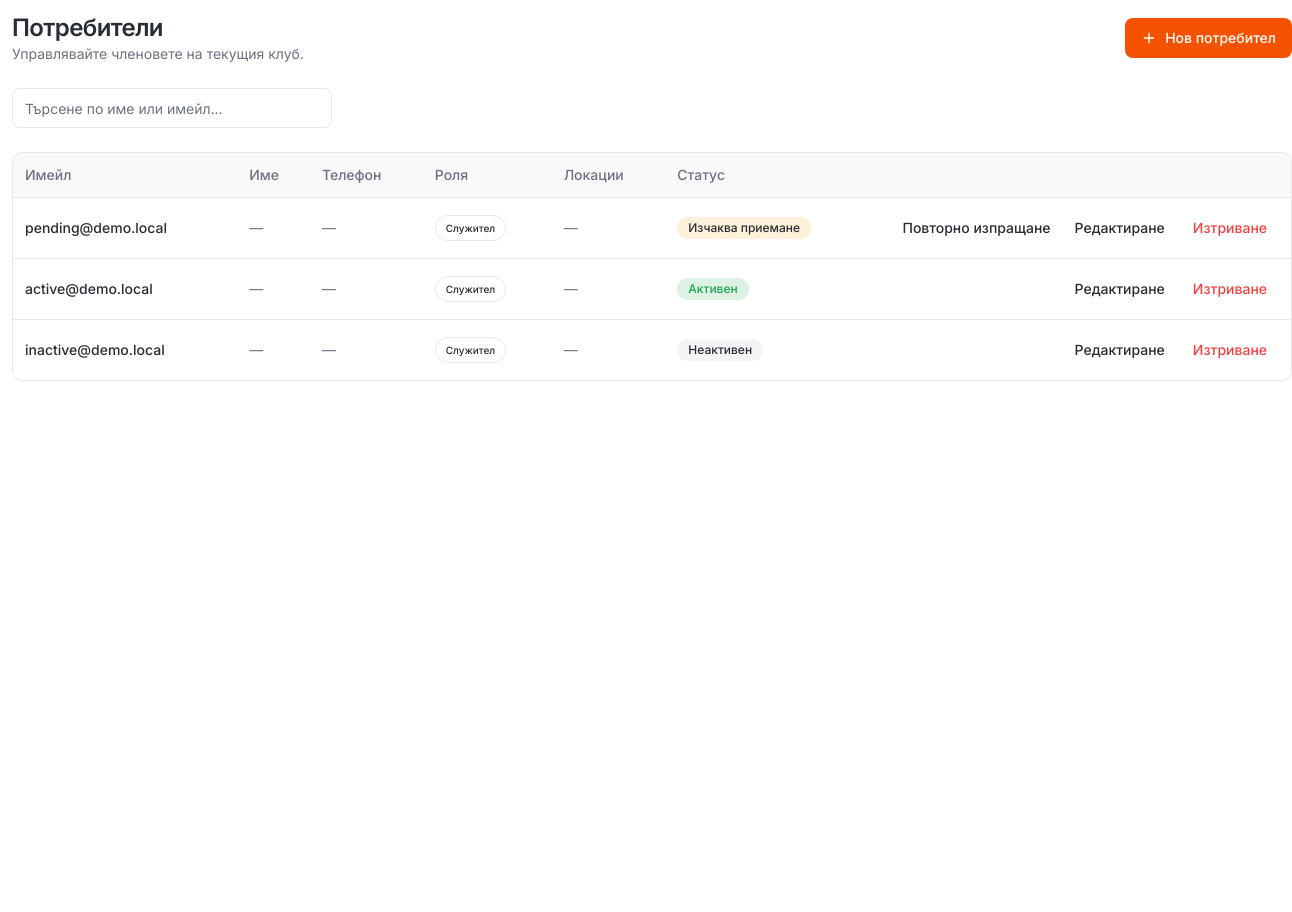
Scenario: Users list — account status badges and invite resend › reports a failed send distinctly from a successful one
Expected: the text "pending@demo.local" is shown, [13,198,237,258]
Click the button "Повторно изпращане".
click(977, 228)  # box [890,210,1063,246]
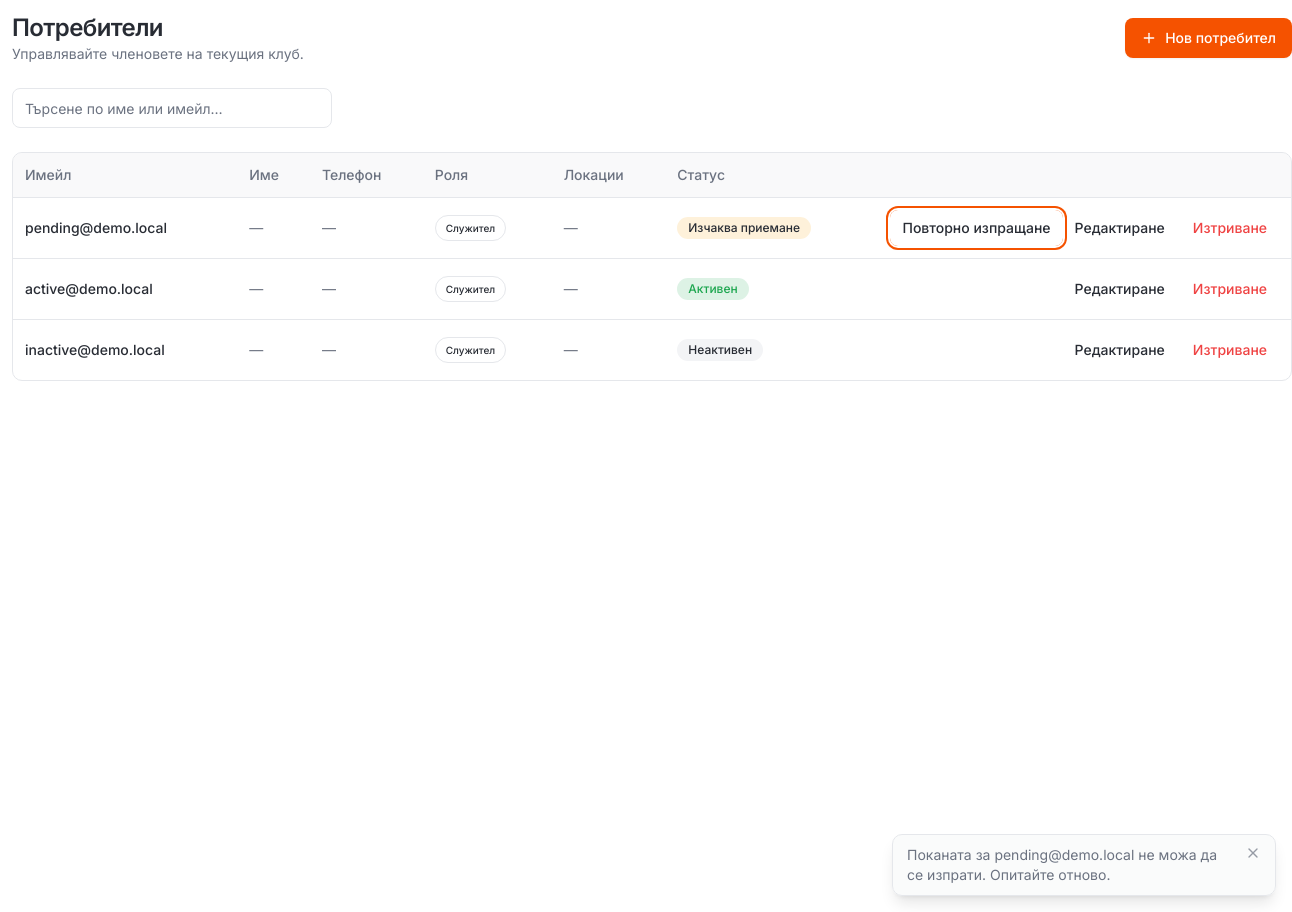
Expected: the message reads "Поканата за pending@demo.local не можа да се изпрати. Опитайте отново.", [907,846,1217,883]
